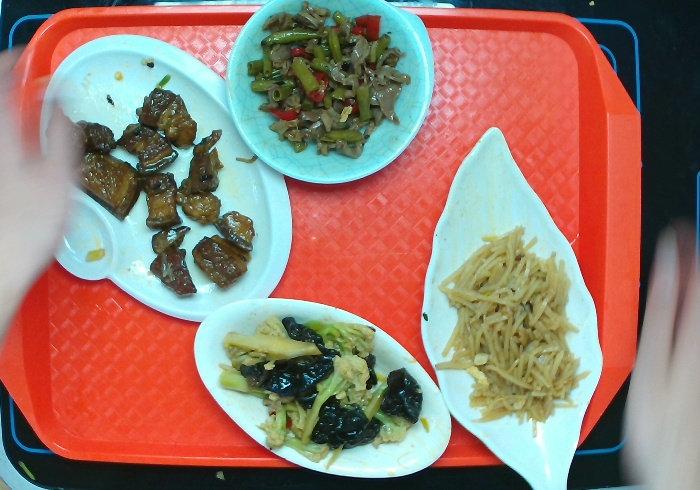RJxy-Bai_Se_Tuo_Yuan: (189, 289, 458, 480)
RJxy-Shu_Ye_Pan: (409, 115, 605, 488)
RJxy-Xiao_Jiao_Yuan_Wan: (222, 1, 437, 193)
RJxy-Zhan_Liao_Pan: (27, 29, 296, 331)
